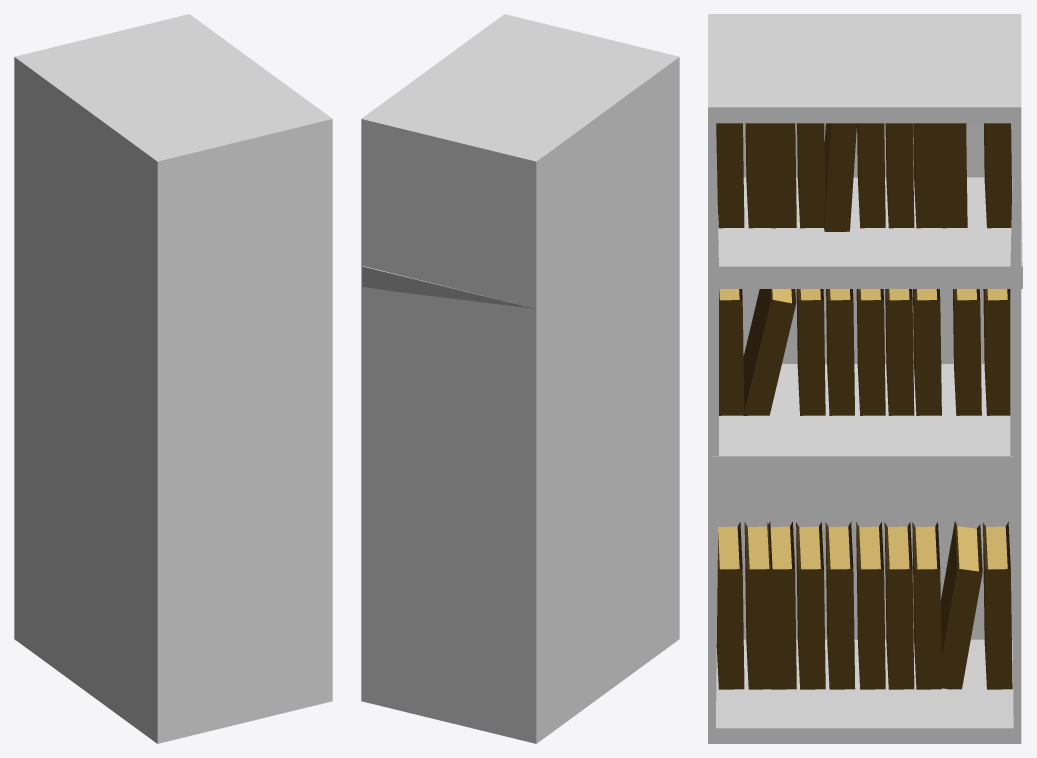
The model's file is cupboard with books .fbx.
3 renders of one model, left to right at view 1: azimuth 30°, elevation 25°; view 2: azimuth 150°, elevation 25°; view 3: azimuth 270°, elevation 25°, orthographic. The views are drawn at different scales.
Visible parts, largest first — view 1: Cube.010; view 2: Cube.010; view 3: Cube.010, Cube.029, Cube.019, Cube.024, Cube.026, Cube.030, Cube.025, Cube.027, Cube.028, Cube.021, Cube.023, Cube.022 (+18 smaller).
Part boxes in pixels (left/top/right/bottom): Cube.010: left=14, top=14, right=332, bottom=743; Cube.010: left=361, top=14, right=679, bottom=743; Cube.010: left=708, top=14, right=1022, bottom=743; Cube.029: left=936, top=521, right=982, bottom=689; Cube.019: left=743, top=289, right=795, bottom=415; Cube.024: left=796, top=522, right=825, bottom=689; Cube.026: left=856, top=522, right=885, bottom=689; Cube.030: left=983, top=521, right=1012, bottom=689; Cube.025: left=825, top=521, right=855, bottom=689; Cube.027: left=884, top=522, right=914, bottom=689; Cube.028: left=912, top=522, right=941, bottom=689; Cube.021: left=716, top=522, right=744, bottom=689; Cube.023: left=767, top=521, right=796, bottom=689; Cube.022: left=744, top=521, right=772, bottom=689.
Size of the model in its own units: 80.86 by 256 by 115.
